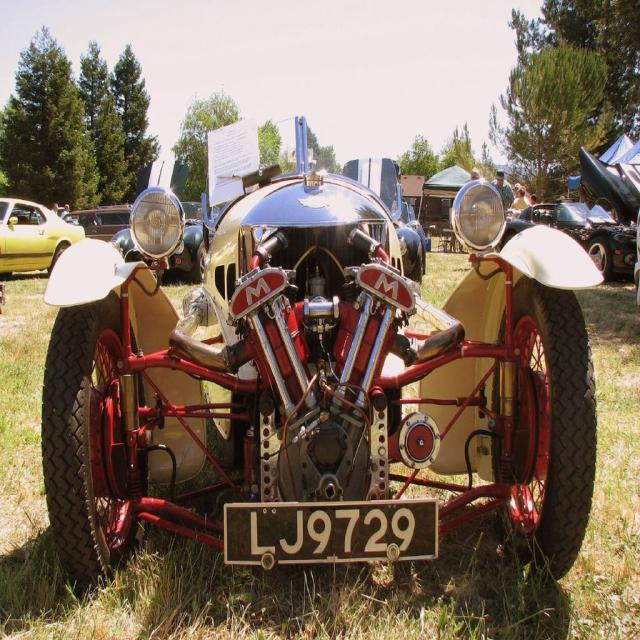car: (38, 109, 601, 606), (0, 183, 81, 254)
